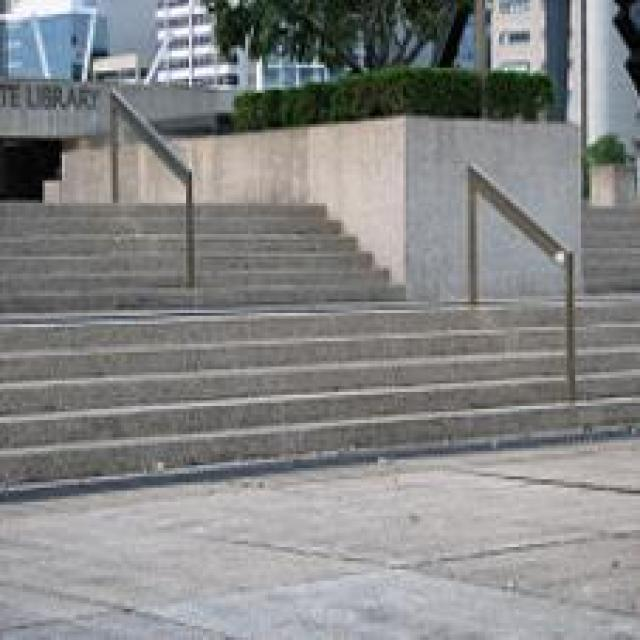upstair: (58, 300, 430, 477)
